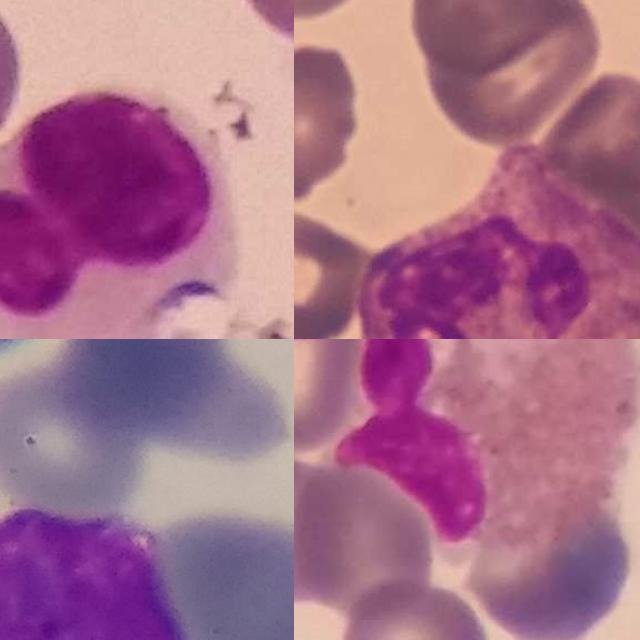Basophil: (0, 506, 190, 640)
Eosinophil: (340, 339, 640, 561)
Monocyte: (0, 88, 239, 339)
Neutrophil: (356, 145, 640, 339)
